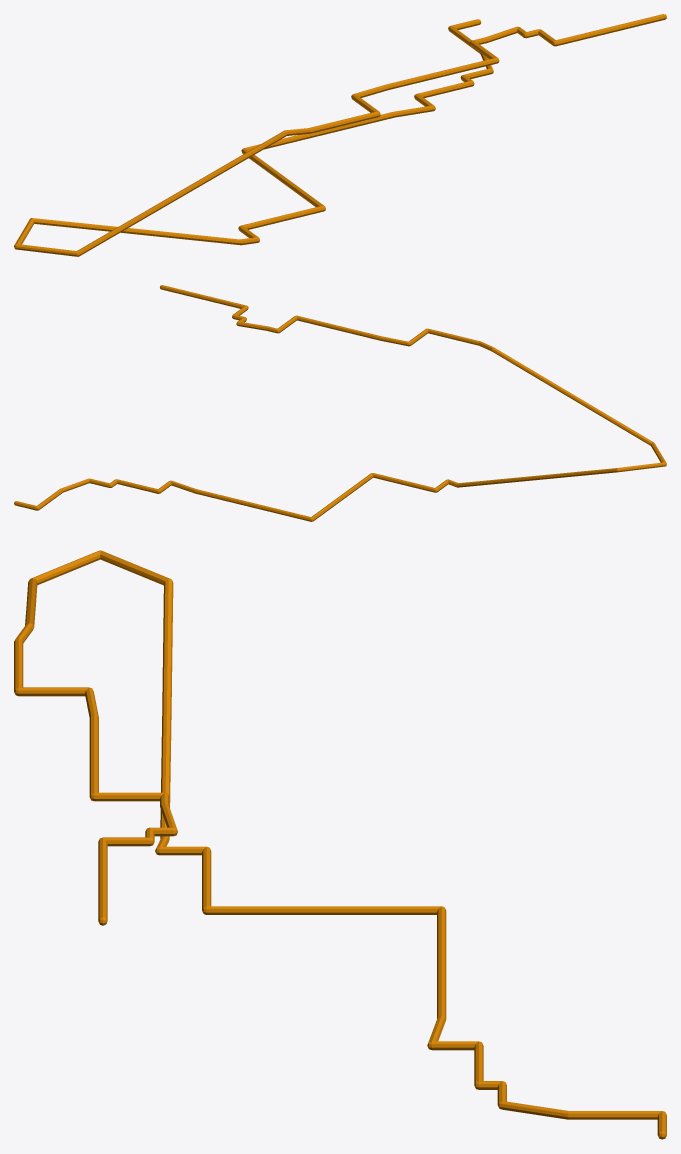
3 renders of one model, top to bottom at view 1: azimuth 30°, elevation 25°; view 2: azimuth 150°, elevation 25°; view 3: azimuth 270°, elevation 25°, orthographic. The views are drawn at different scales.
Size of the model in its own units: 2406 by 520 by 1390.
